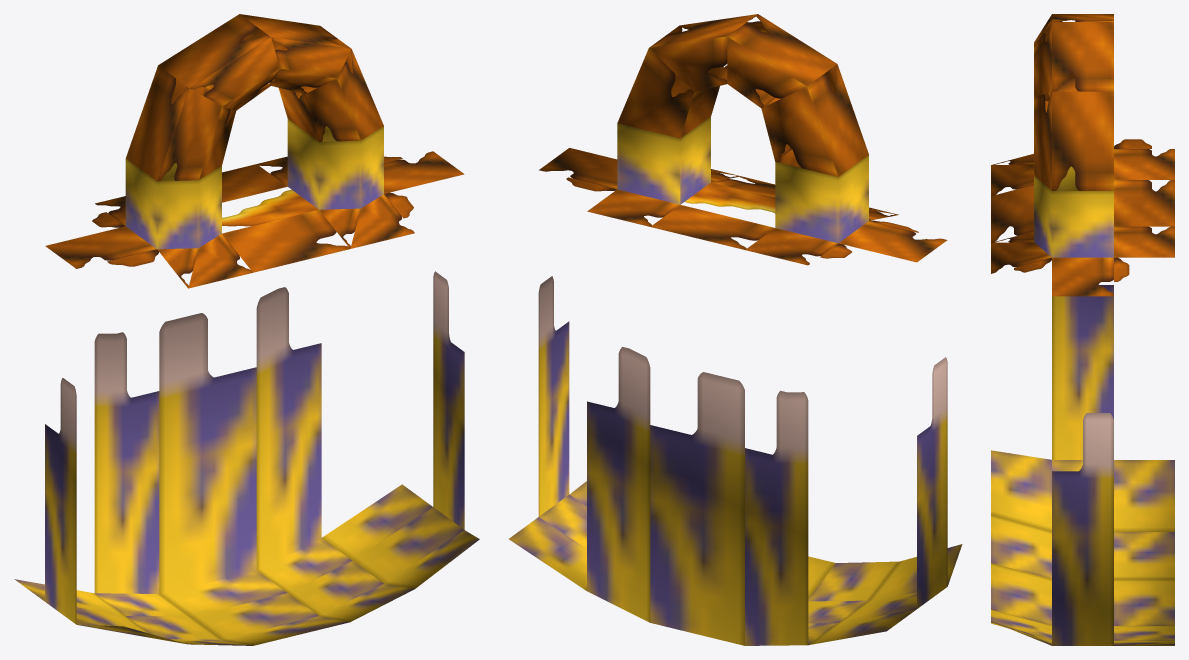
The picture shows the model from 3 angles, left to right: view 1: azimuth 30°, elevation 25°; view 2: azimuth 150°, elevation 25°; view 3: azimuth 270°, elevation 25°; orthographic projection. The views are drawn at different scales.
Parts seen in each view (by area): view 1: T1L1M001_39; view 2: T1L1M001_39; view 3: T1L1M001_39.
Boxes of the visible parts, x1,y1,x2,y2 form: T1L1M001_39: (14, 14, 479, 645); T1L1M001_39: (509, 14, 962, 645); T1L1M001_39: (991, 14, 1174, 645).
Bounding box in the file's own units: 0.4795 × 0.6973 × 0.2002.
